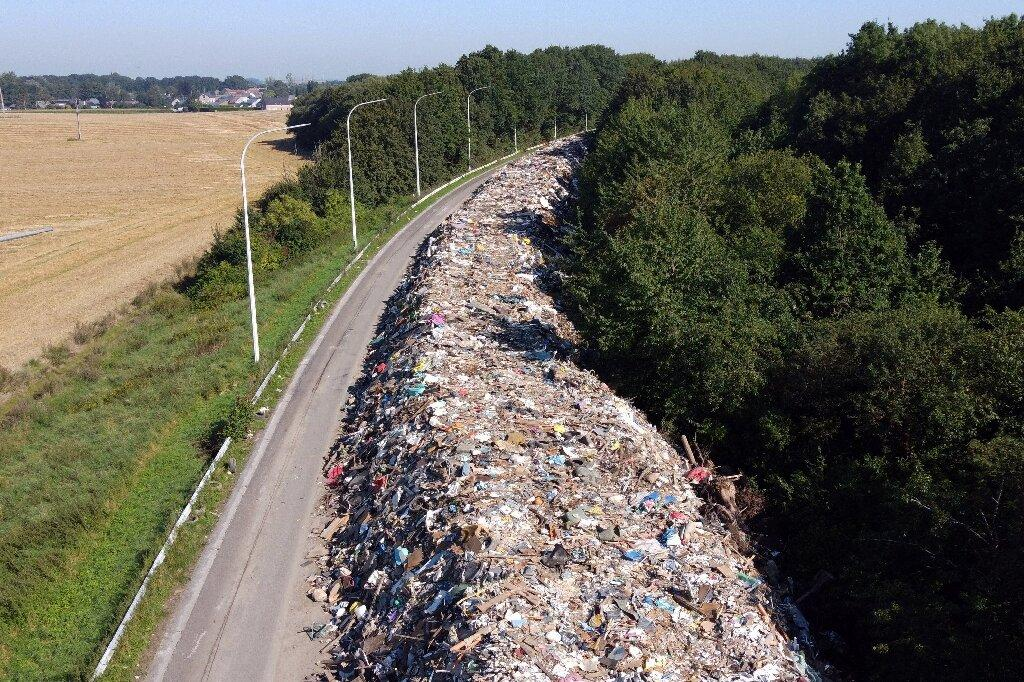garbage: (305, 132, 826, 682)
